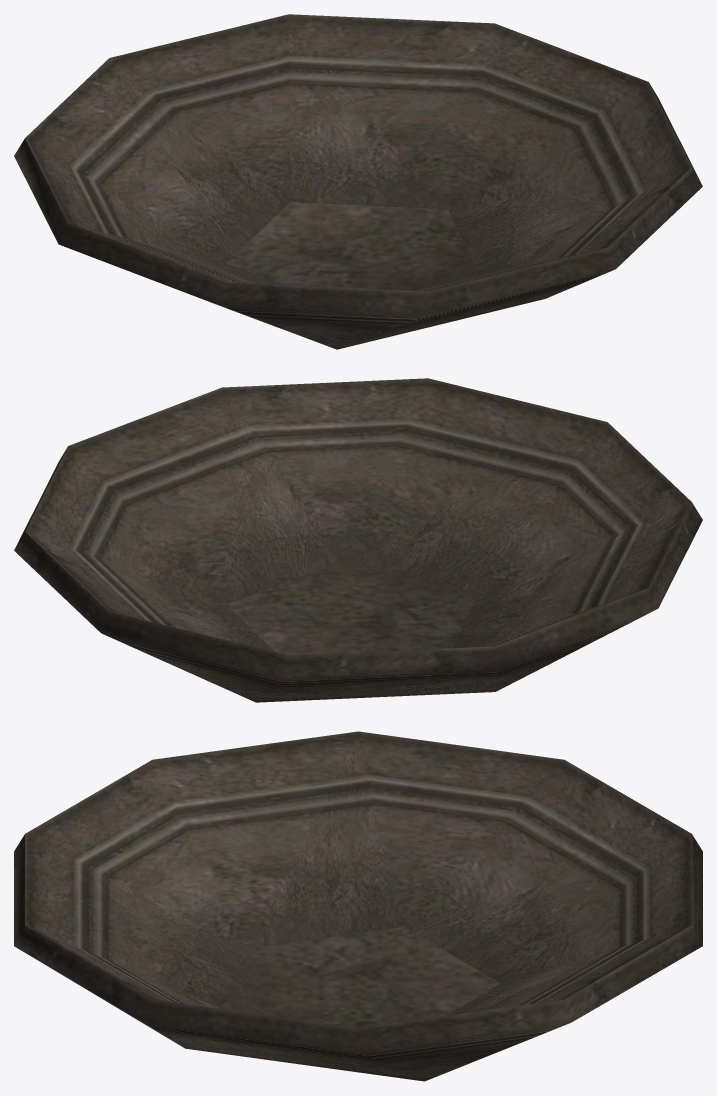
Rendered from edb_con_tato_bowl_empty_s02_l1.fbx.
The picture shows the model from 3 angles, top to bottom: view 1: azimuth 30°, elevation 25°; view 2: azimuth 150°, elevation 25°; view 3: azimuth 270°, elevation 25°; orthographic projection. The views are drawn at different scales.
Visible parts, largest first — view 1: mesh_node; view 2: mesh_node; view 3: mesh_node.
Boxes of the visible parts, x1,y1,x2,y2 form: mesh_node: (14,14,702,349); mesh_node: (14,378,702,702); mesh_node: (14,731,702,1081).
Size of the model in its own units: 1.36 by 0.2396 by 1.29.
